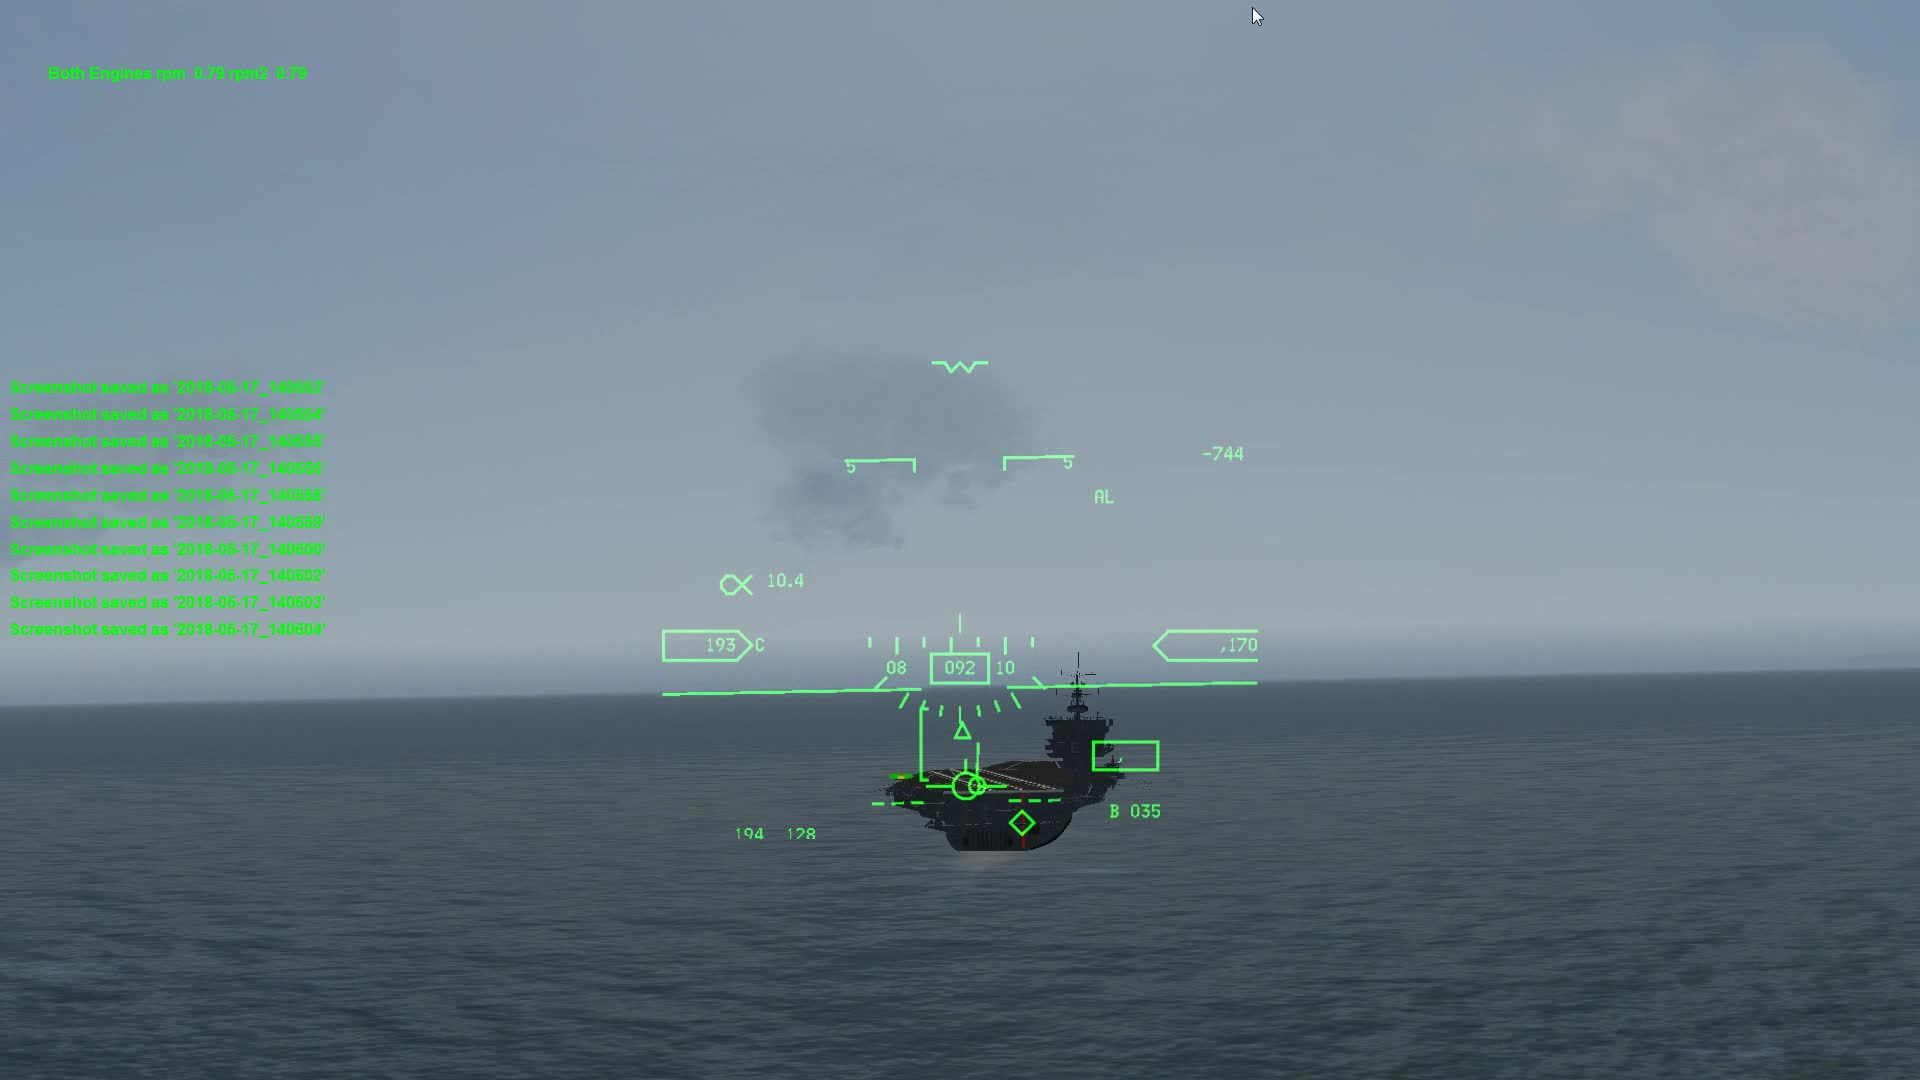speed vector: (920, 754, 1011, 804)
